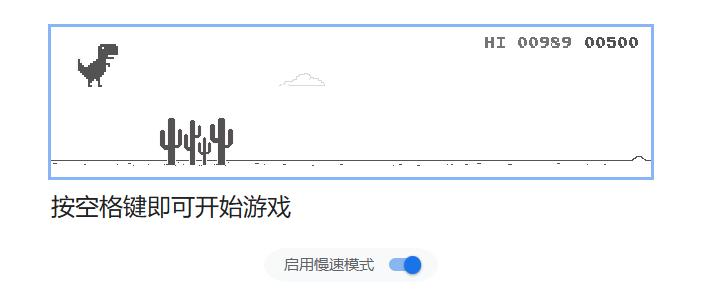cactus: (157, 114, 234, 168)
dino: (76, 43, 120, 90)
